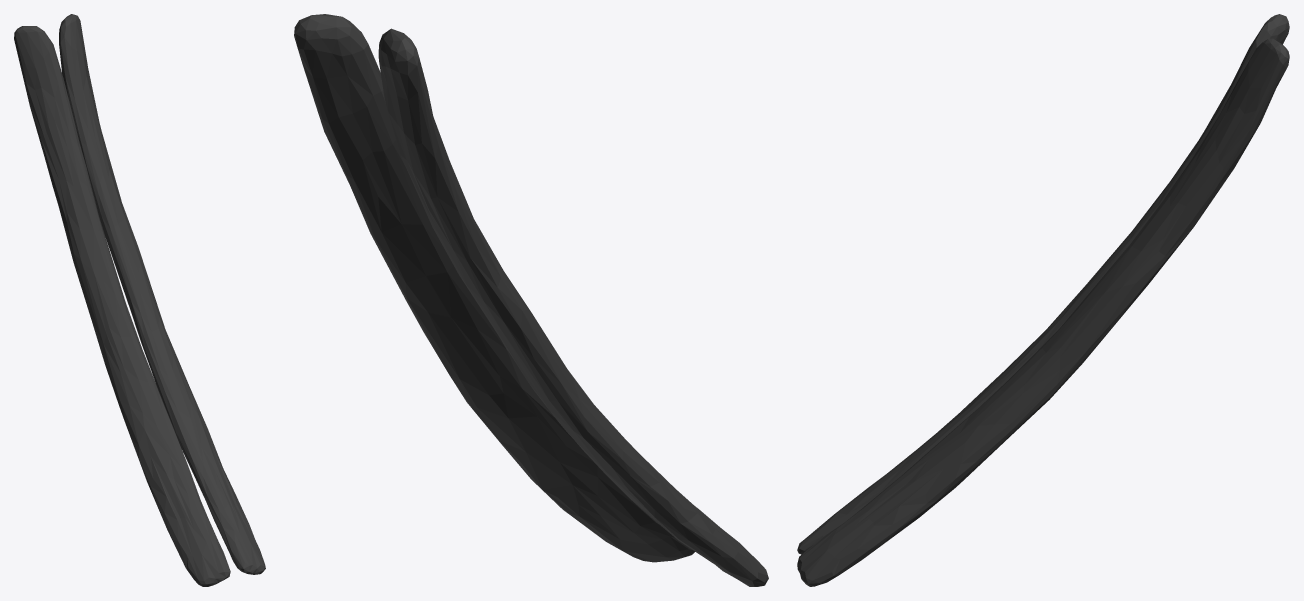
Rendered from m_sternohyoideus.glb.
The picture shows the model from 3 angles, left to right: view 1: azimuth 30°, elevation 25°; view 2: azimuth 150°, elevation 25°; view 3: azimuth 270°, elevation 25°; orthographic projection. The views are drawn at different scales.
Parts seen in each view (by area): view 1: m_sternohyoideus; view 2: m_sternohyoideus; view 3: m_sternohyoideus.
Boxes of the visible parts, box(x1,y1,x2,y2) form: m_sternohyoideus: box(14, 14, 265, 586); m_sternohyoideus: box(294, 14, 768, 586); m_sternohyoideus: box(797, 14, 1289, 586).
Bounding box in the file's own units: 0.00103 × 0.00552 × 0.00456.
1 material, 1 textured.
